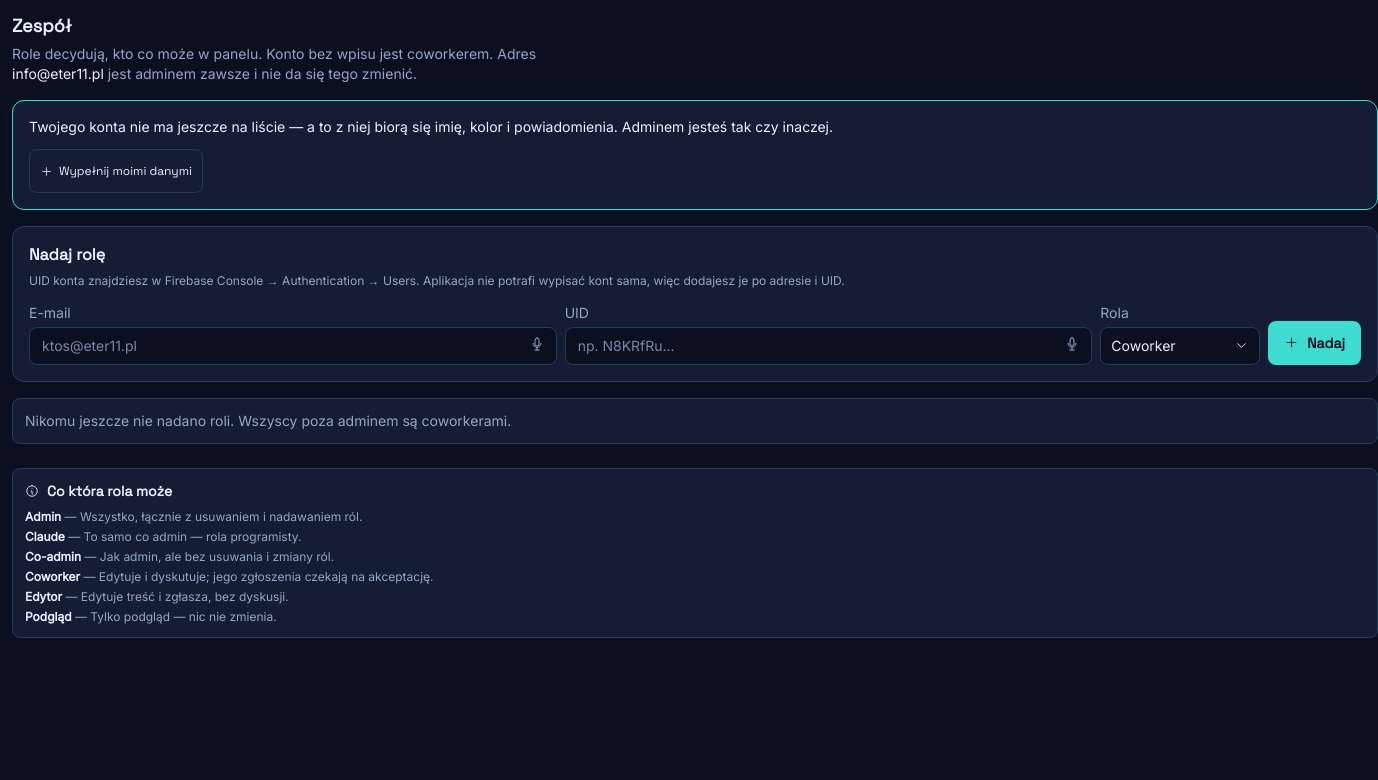
Test: TeamPanel — ochrona przed samo-wylogowaniem › nie pozwala nadać sobie niższej roli (samo-degradacja) przez „Nadaj rolę"
Type "admin@eter11.pl" into the field labelled "E-mail" at (293, 346), box [29, 326, 557, 364]
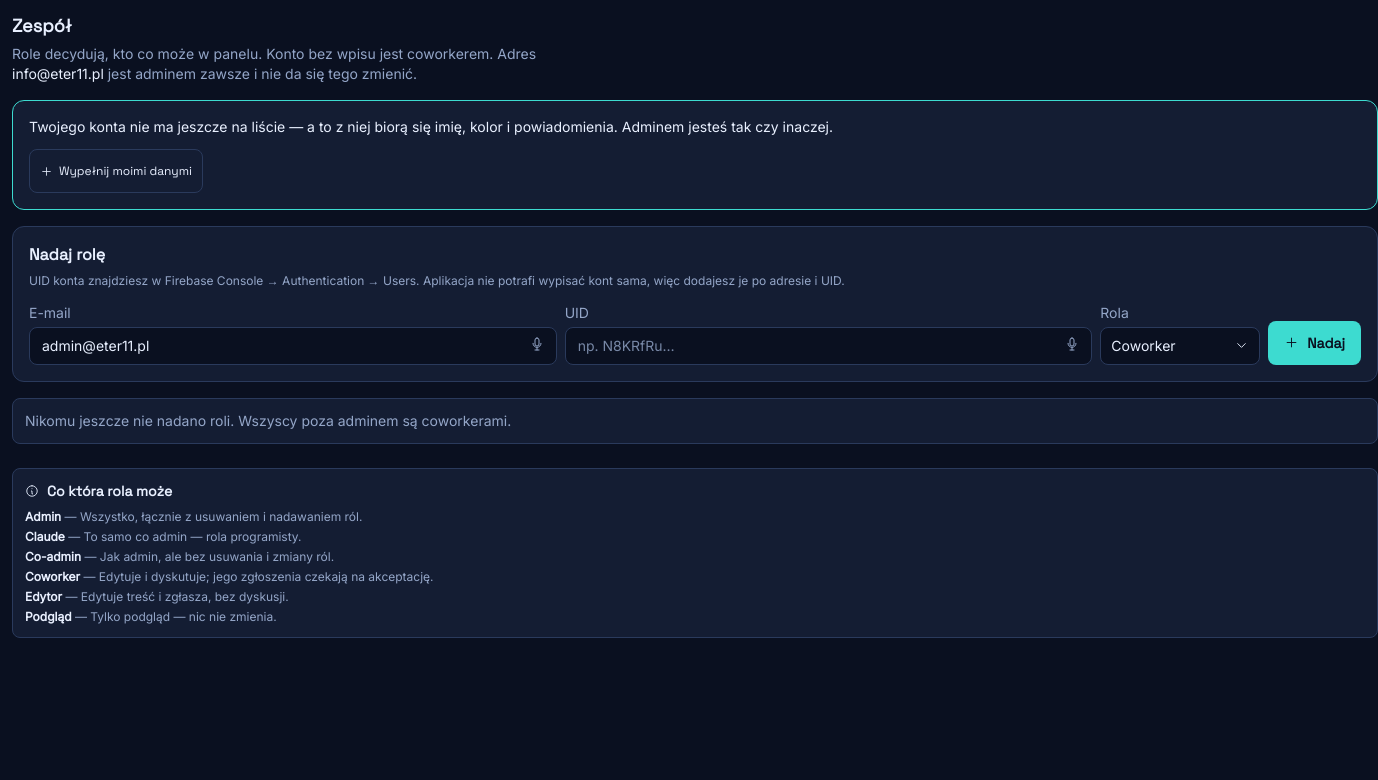
Type "me" into the field labelled "UID" at (829, 346), box [565, 326, 1092, 364]
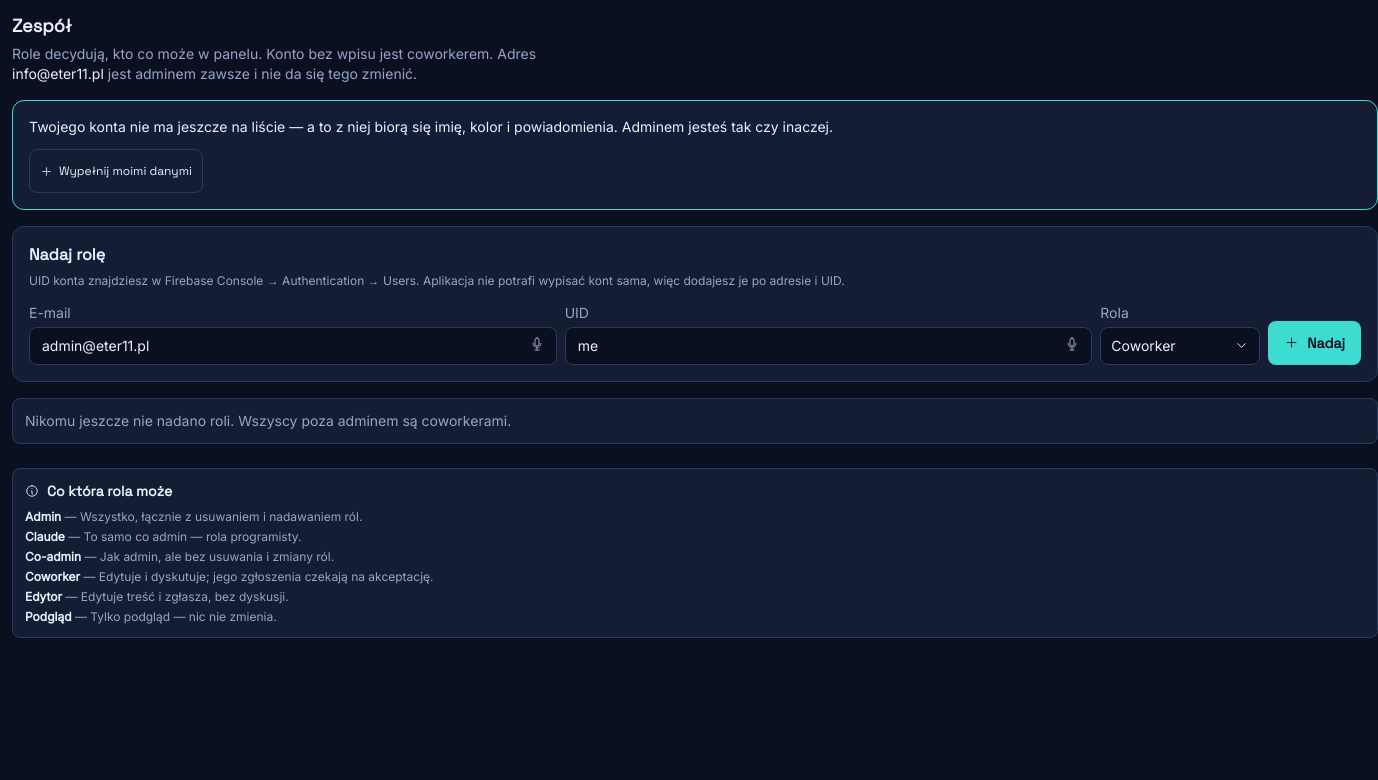
Click the button "Nadaj" at (1315, 342), box [1268, 320, 1361, 364]
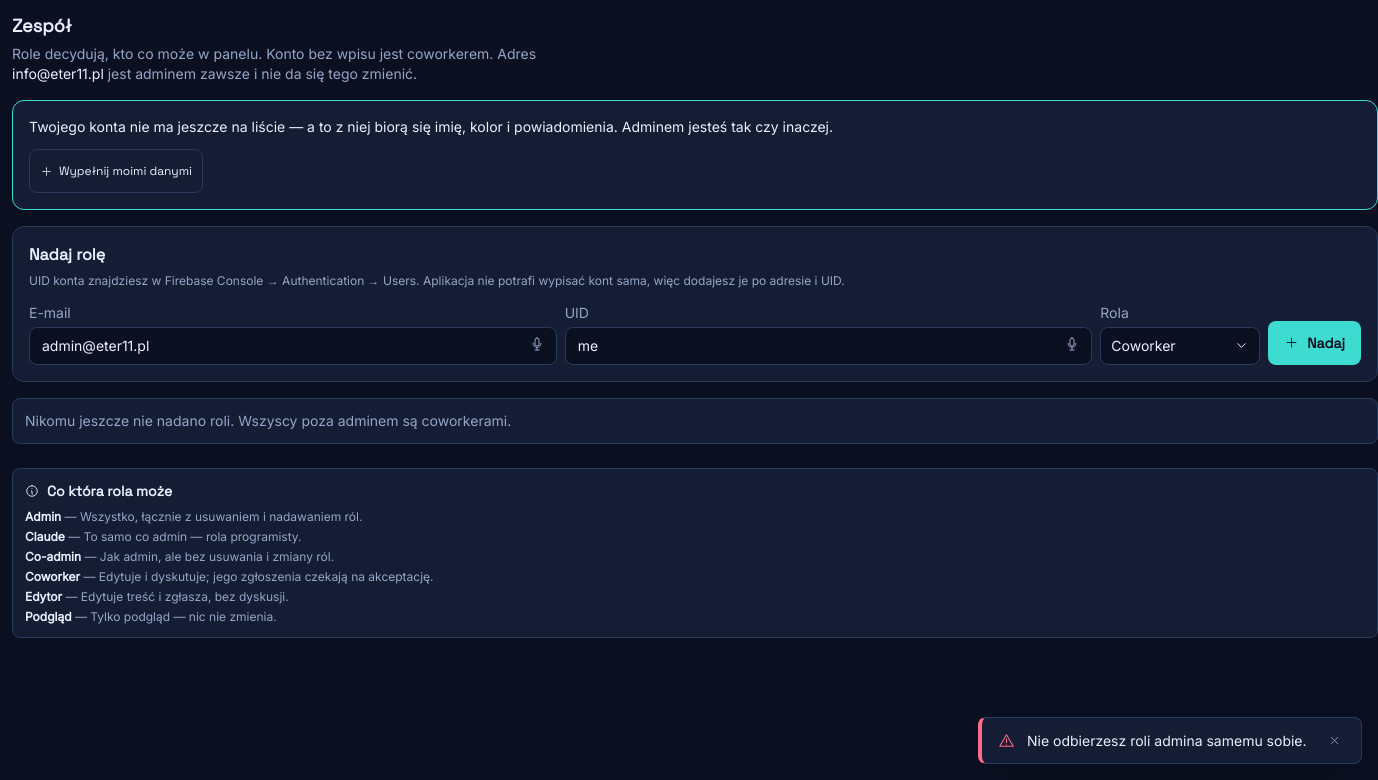
Expected: the text "Nie odbierzesz roli admina samemu sobie." is shown, [1027, 730, 1312, 750]
